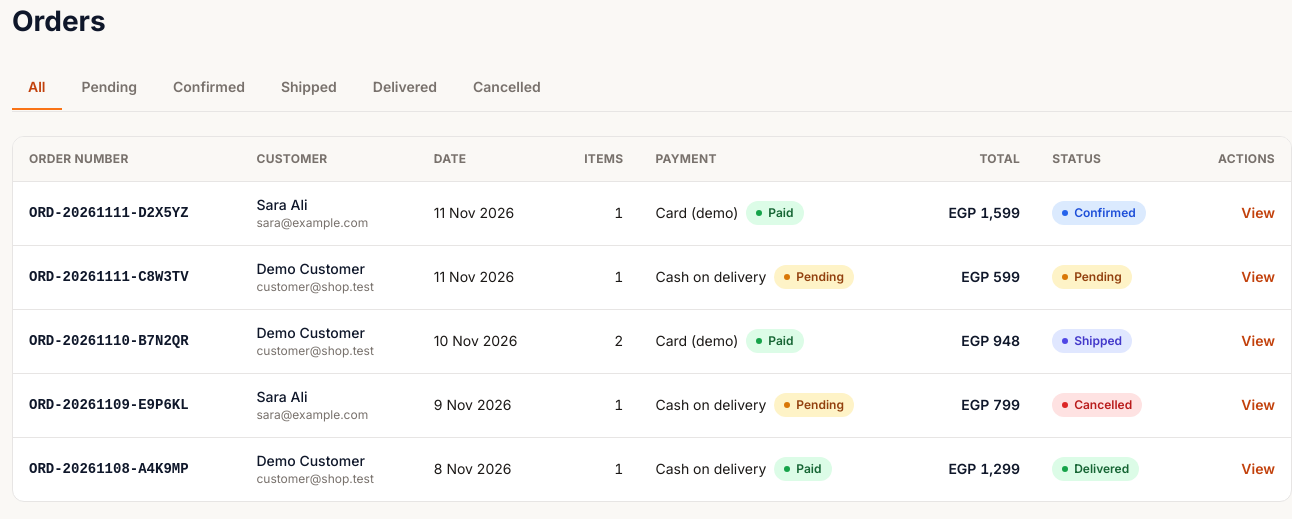
Scenario: Admin Orders page › renders order list and filters across status tabs with URL sync
expect the heading "Orders" is shown: met, box [12, 4, 106, 38]
Click the tab "Pending" at (109, 88), box [66, 66, 153, 110]
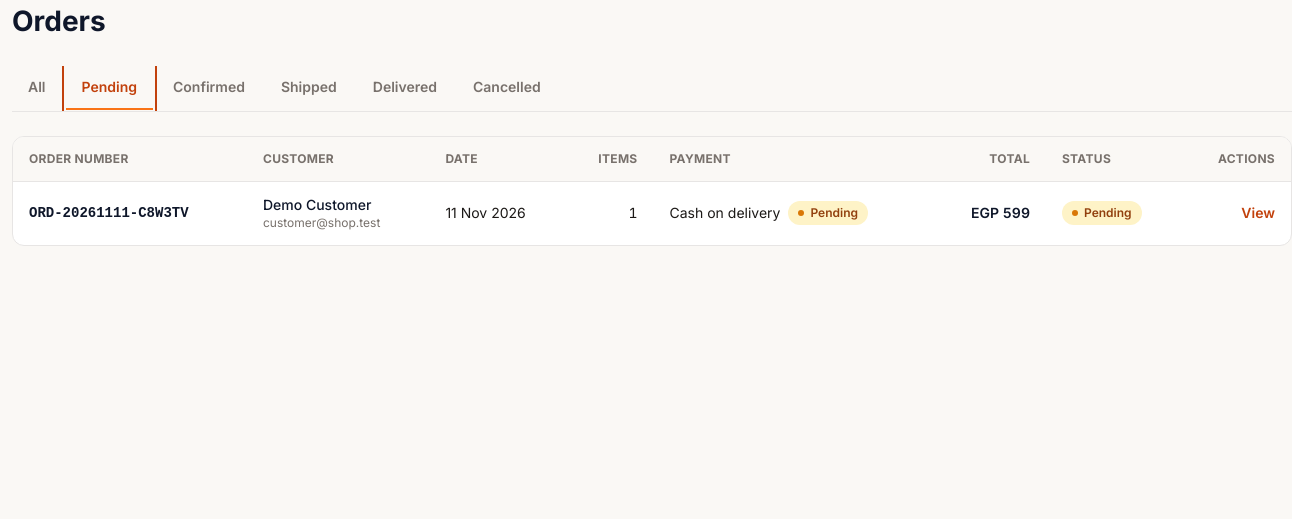
expect the text "ORD-20261111-C8W3TV" is shown 2 times: met
expect the text "ORD-20261111-D2X5YZ" is gone: met
